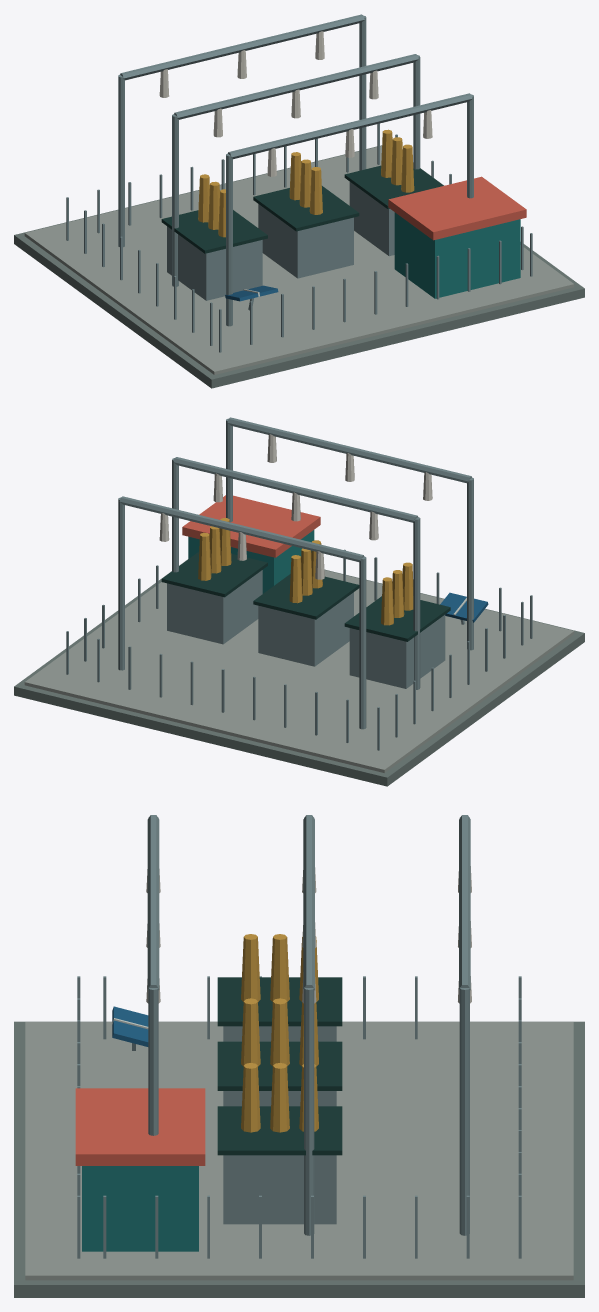
File: substation_lv4.glb
3 renders of one model, top to bottom at view 1: azimuth 30°, elevation 25°; view 2: azimuth 150°, elevation 25°; view 3: azimuth 270°, elevation 25°, orthographic. The views are drawn at different scales.
Parts seen in each view (by area): view 1: rough, metallic; view 2: rough, metallic; view 3: rough, metallic.
Boxes of the visible parts, left/top/right/bottom form: rough: left=14, top=31, right=584, bottom=388; metallic: left=66, top=14, right=532, bottom=352; rough: left=14, top=434, right=584, bottom=786; metallic: left=66, top=417, right=532, bottom=750; rough: left=14, top=866, right=584, bottom=1297; metallic: left=77, top=815, right=521, bottom=1258.
Size of the model in its own units: 9.6 by 4.53 by 8.8.
